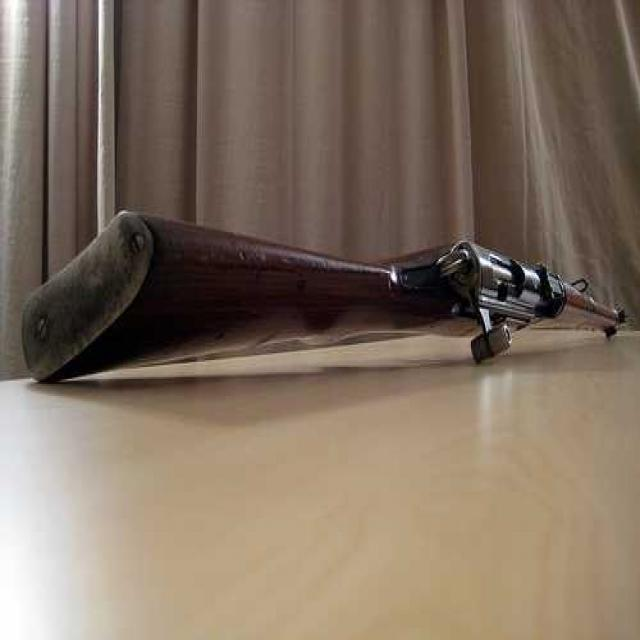weapon: (15, 174, 632, 418)
